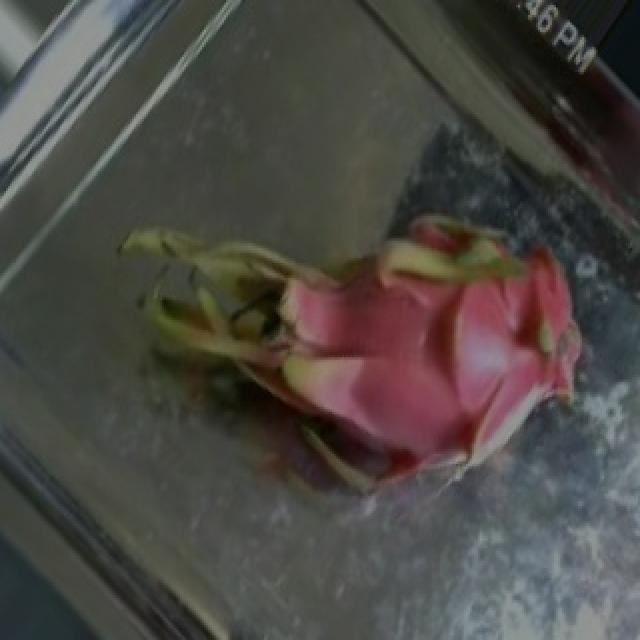fruit: (212, 104, 632, 534)
